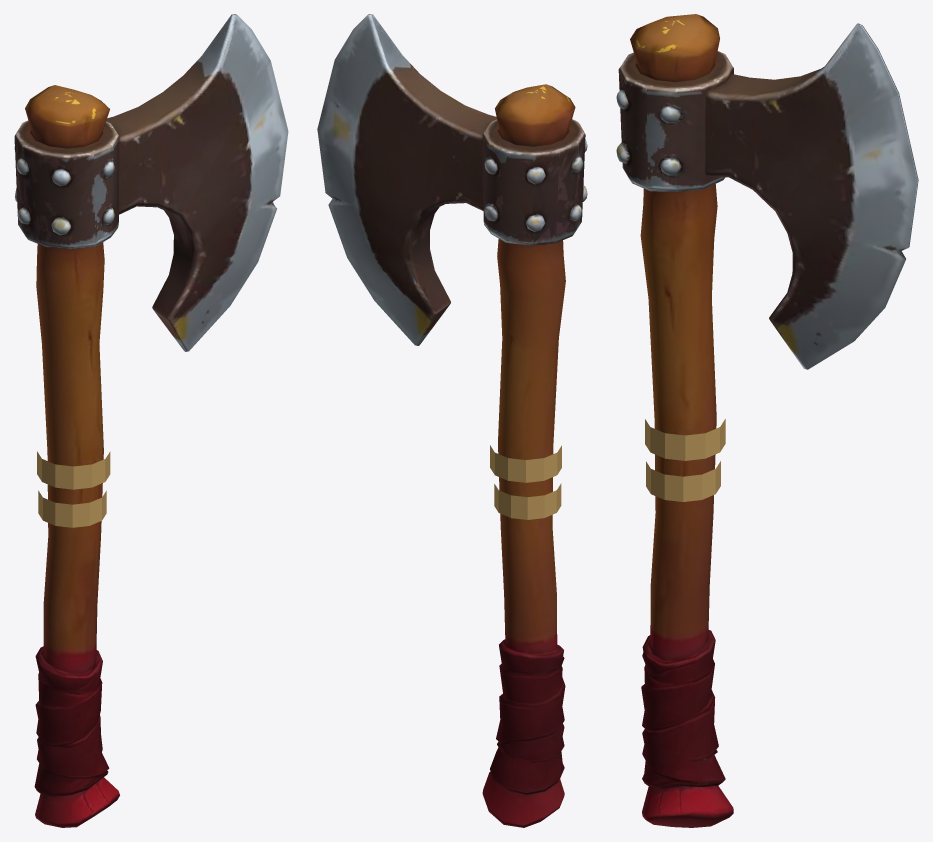
The model's file is axe_wynd_2h_fine.glb.
3 views of the same model, side by side, from view 1: azimuth 30°, elevation 25°; view 2: azimuth 150°, elevation 25°; view 3: azimuth 330°, elevation 25° (orthographic). The views are drawn at different scales.
Visible parts, largest first — view 1: tripo_node_344120b8-e192-43f2-98a7-98d280c78e91; view 2: tripo_node_344120b8-e192-43f2-98a7-98d280c78e91; view 3: tripo_node_344120b8-e192-43f2-98a7-98d280c78e91.
Part boxes in pixels (x1,y1,x2,y2): tripo_node_344120b8-e192-43f2-98a7-98d280c78e91: (14, 14, 288, 827); tripo_node_344120b8-e192-43f2-98a7-98d280c78e91: (317, 14, 587, 827); tripo_node_344120b8-e192-43f2-98a7-98d280c78e91: (616, 14, 918, 827).
Size of the model in its own units: 0.5263 by 1.45 by 0.1827.
Materials: 1 (1 with a texture image).
